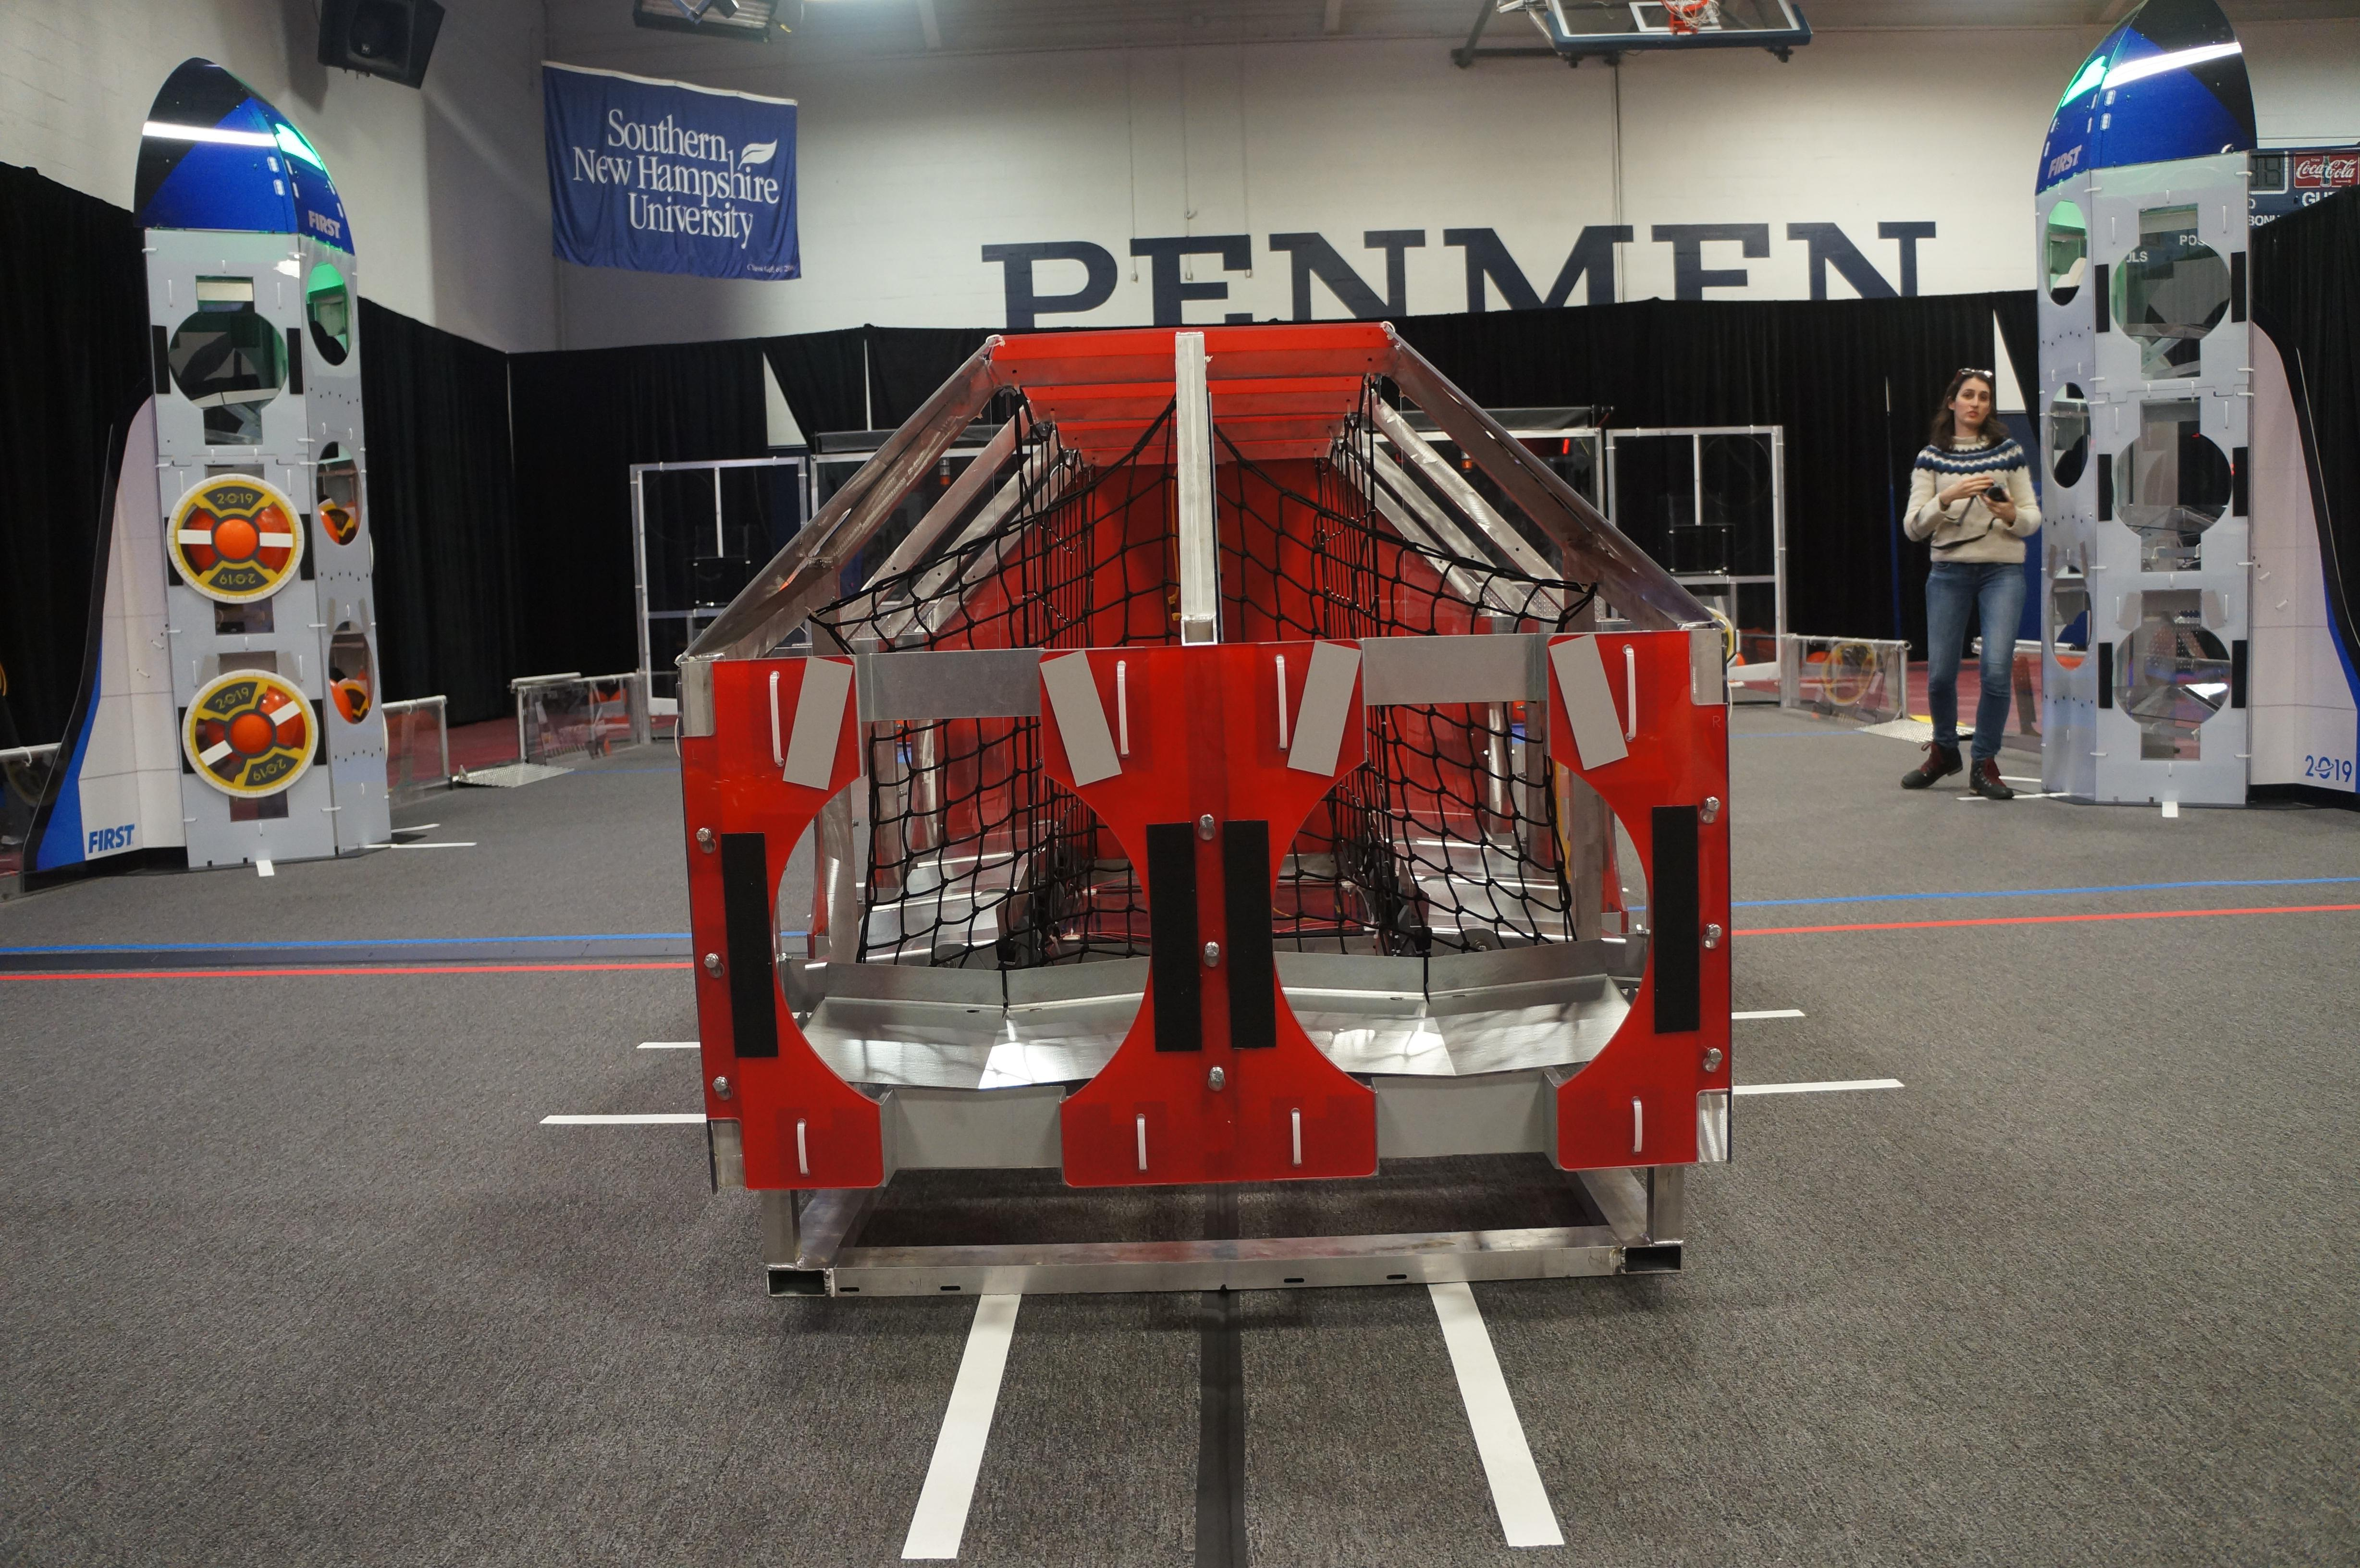Ball: (185, 493, 283, 579), (208, 684, 299, 772)
Hatch: (163, 474, 306, 602), (182, 668, 317, 801)
Tape: (1037, 640, 1123, 787), (1554, 635, 1632, 768), (779, 654, 854, 791), (1288, 640, 1363, 777), (2112, 586, 2143, 633), (2201, 588, 2227, 630)
